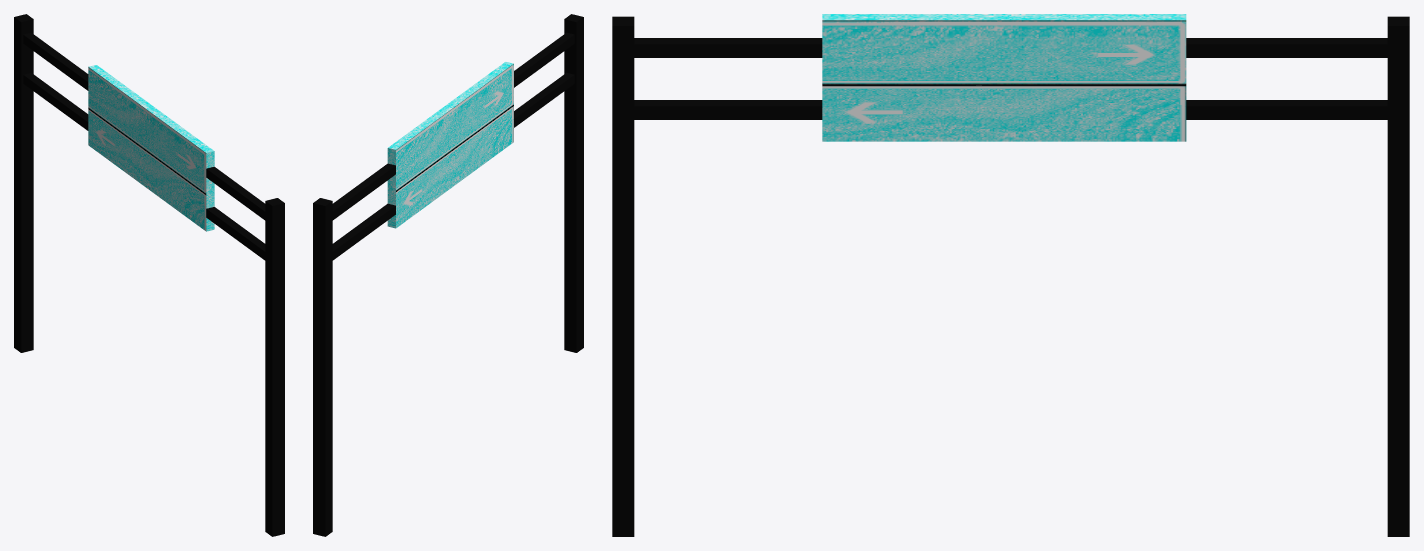
The model's file is overhead sign4.FBX.
The picture shows the model from 3 angles, left to right: view 1: azimuth 30°, elevation 25°; view 2: azimuth 150°, elevation 25°; view 3: azimuth 270°, elevation 25°; orthographic projection. The views are drawn at different scales.
Visible parts, largest first — view 1: Box001; view 2: Box001; view 3: Box001.
Boxes of the visible parts, x1=… form: Box001: x1=14, y1=14, x2=284, y2=536; Box001: x1=313, y1=14, x2=583, y2=536; Box001: x1=612, y1=14, x2=1409, y2=536.
Size of the model in its own units: 3.03 by 77.67 by 109.
